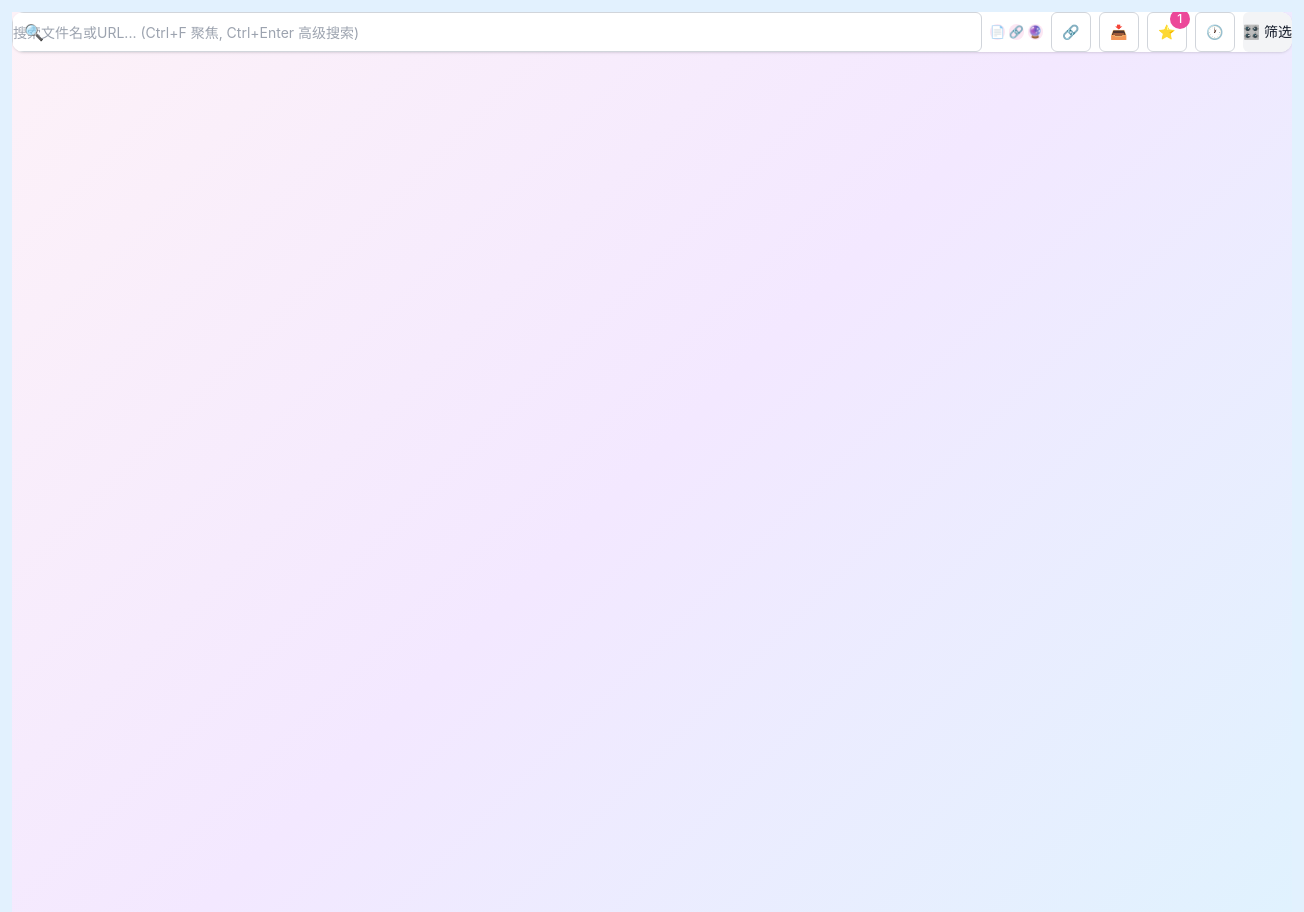
Test: SearchFilter Component › should show presets panel
The image size is (1304, 912).
Click the button "⭐ 1".
click(1167, 32)  # box x1=1147 y1=12 x2=1187 y2=52
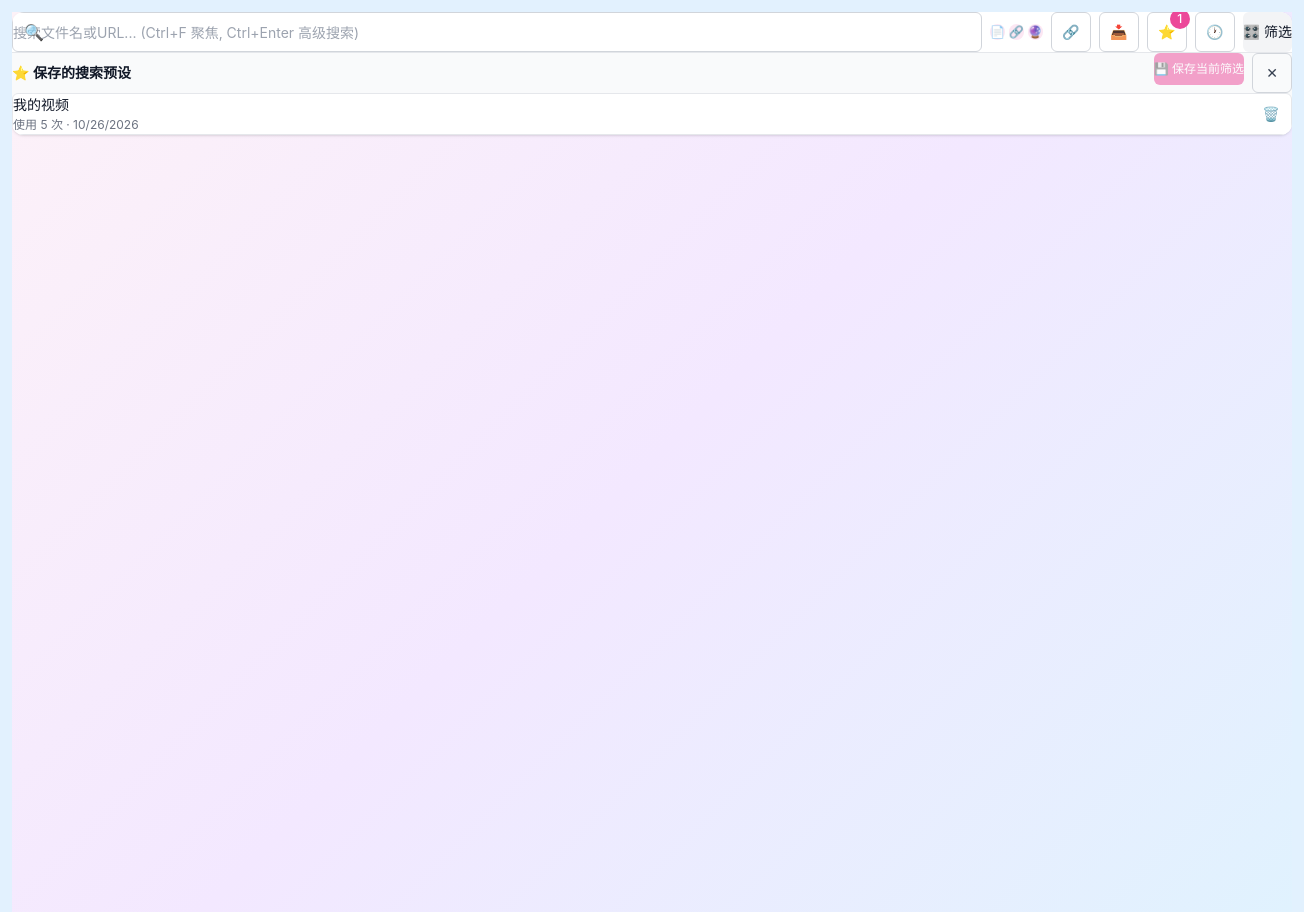
Check: the heading "⭐ 保存的搜索预设" is shown, box x1=12 y1=63 x2=131 y2=83
Check: the text "我的视频" is shown, box x1=13 y1=96 x2=69 y2=113
